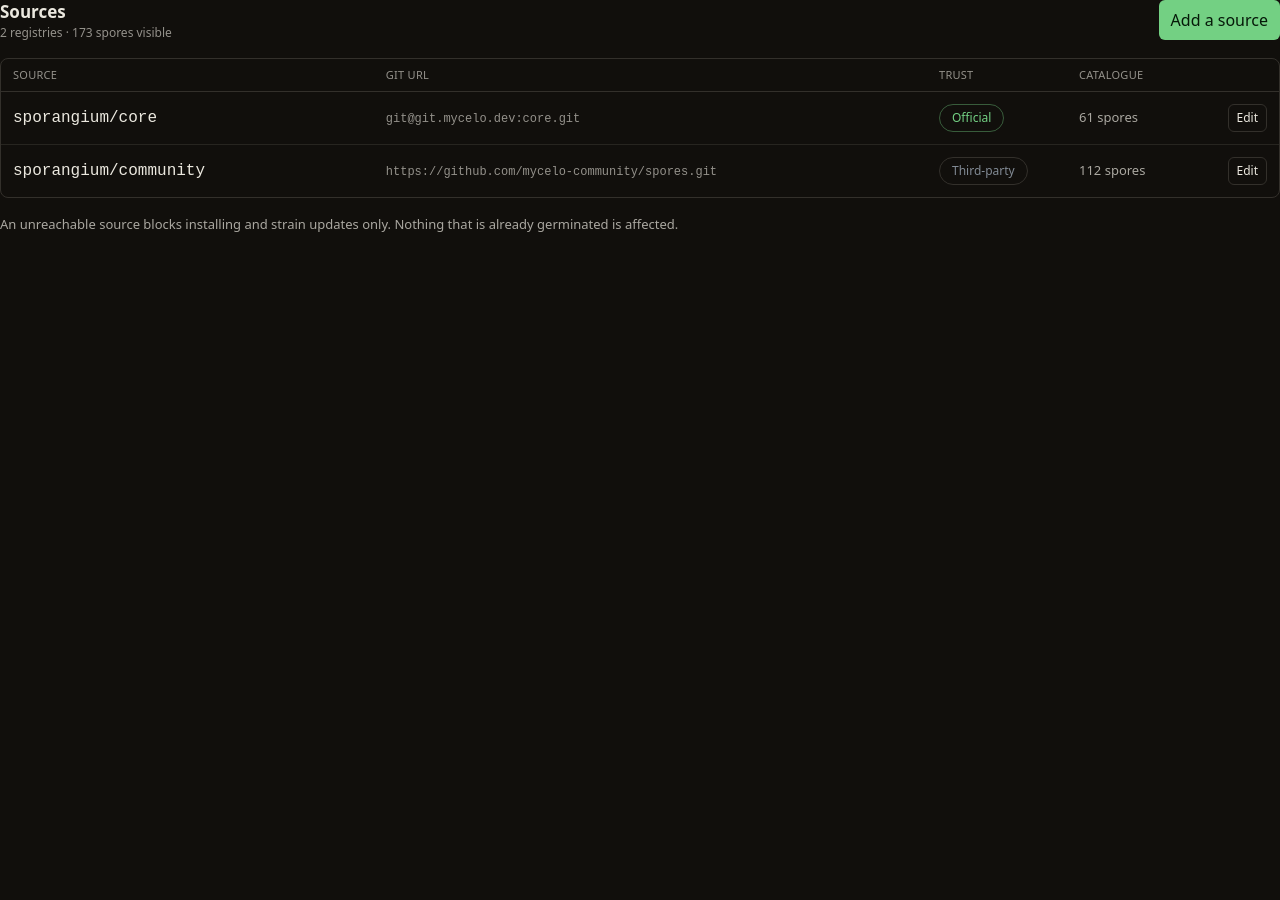
Test case: editing a source › opens each row own sheet, carrying that source values and no other
Click the button "Edit" in the row of "sporangium/community".
click(1247, 171)  # box [1228, 157, 1267, 185]
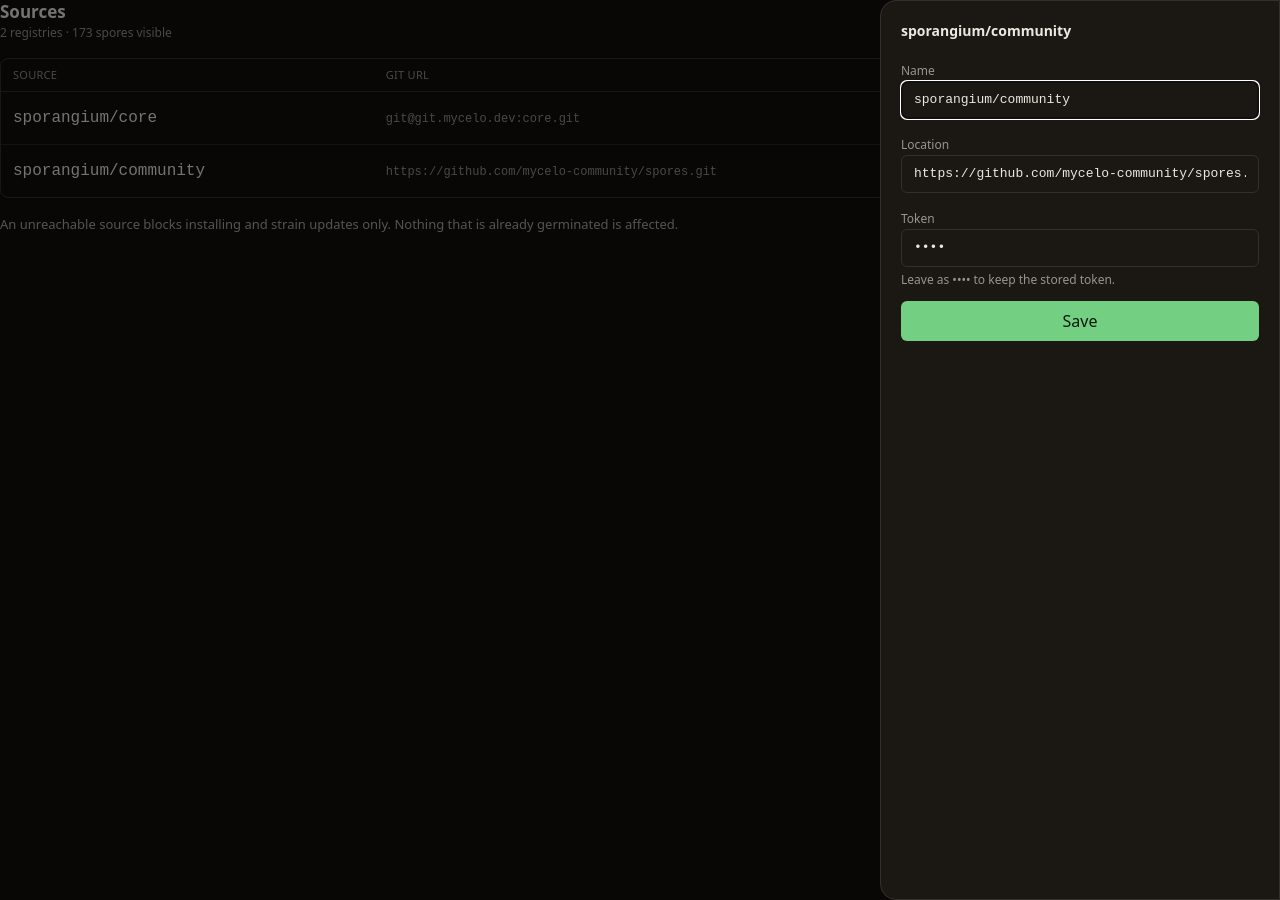
Result: the field labelled "Name" holds "sporangium/community" at [901, 81, 1259, 119]
Result: the field labelled "Location" holds "https://github.com/mycelo-community/spores.git" at [901, 155, 1259, 193]
